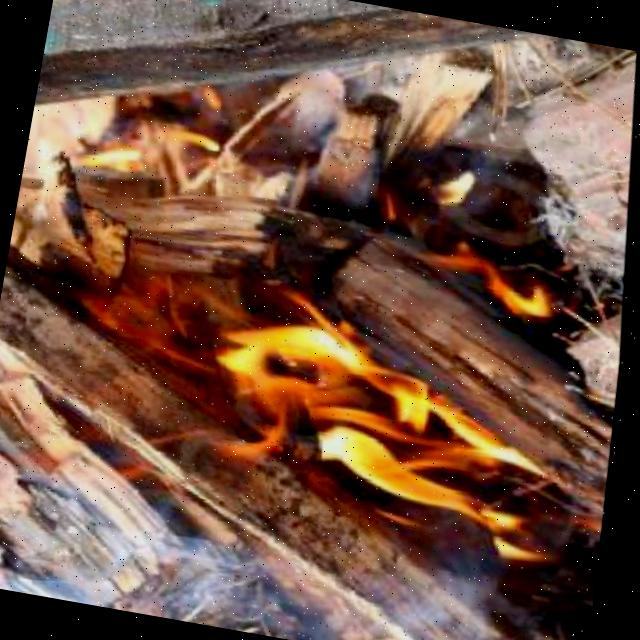fire: (108, 134, 640, 600)
